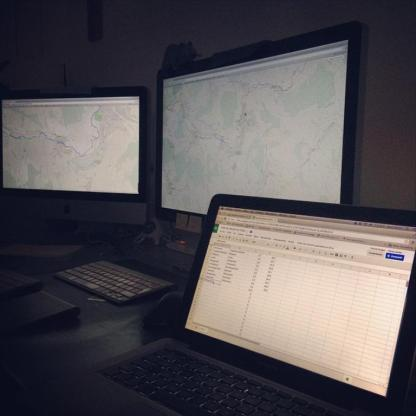board: (49, 192, 416, 416)
